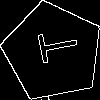T: (28, 27, 80, 66)
